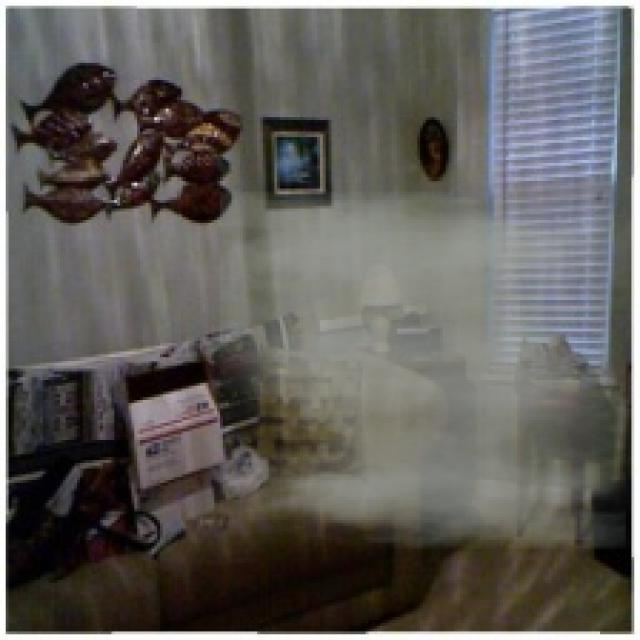Smoke: (212, 192, 632, 548)
